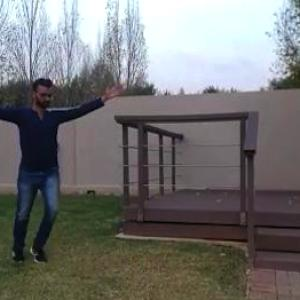takeoff: (0, 77, 133, 260)
